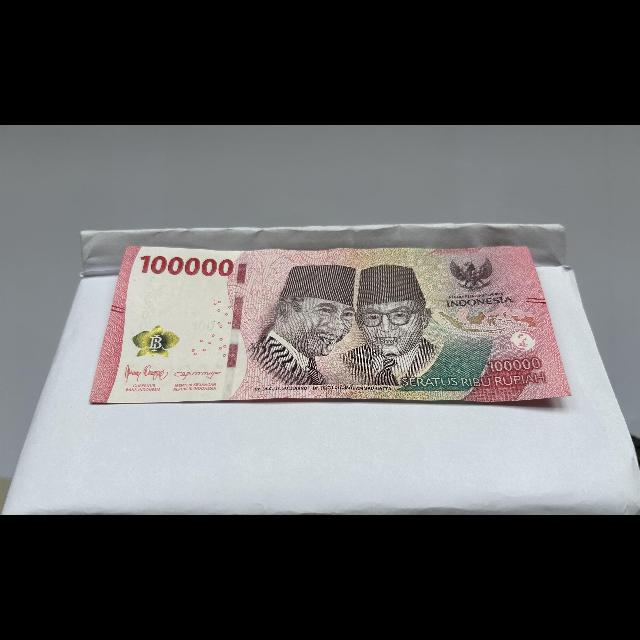Asli-100k: (84, 240, 578, 407)
Tinta-Asli-100k: (128, 324, 184, 359)
